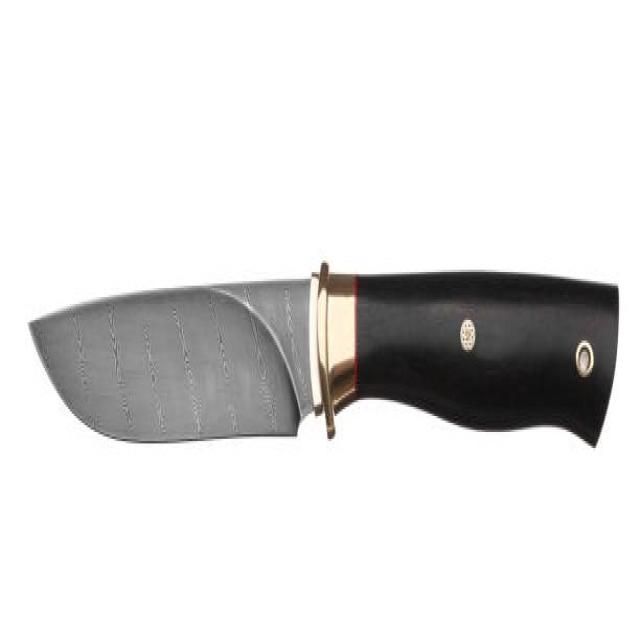knife: (22, 248, 624, 454)
